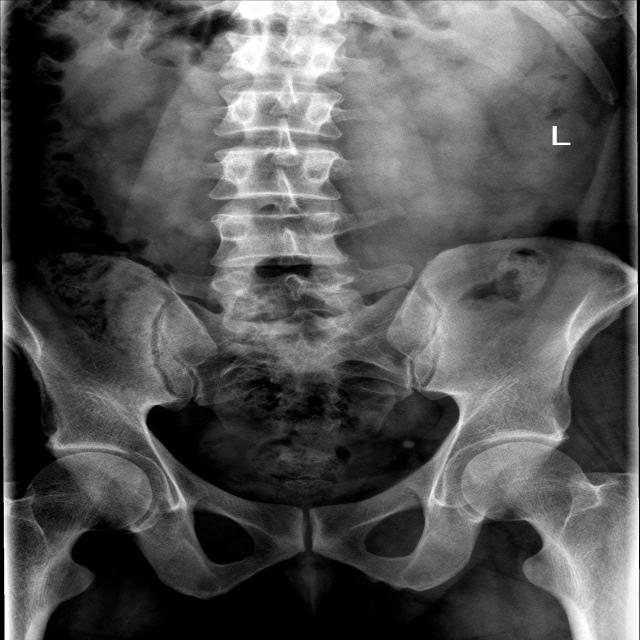normal-left: (461, 441, 640, 640)
normal-right: (2, 452, 153, 640)
